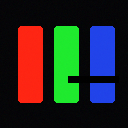3 line_h: (68, 76, 118, 82)
